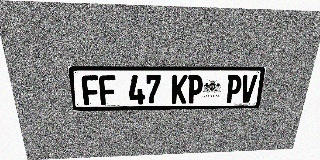4: (128, 75, 145, 104)
7: (145, 75, 161, 104)
F: (81, 75, 100, 105), (99, 75, 117, 105)
K: (171, 75, 188, 104)
P: (225, 75, 243, 103), (187, 75, 204, 103)
V: (239, 75, 257, 103)
